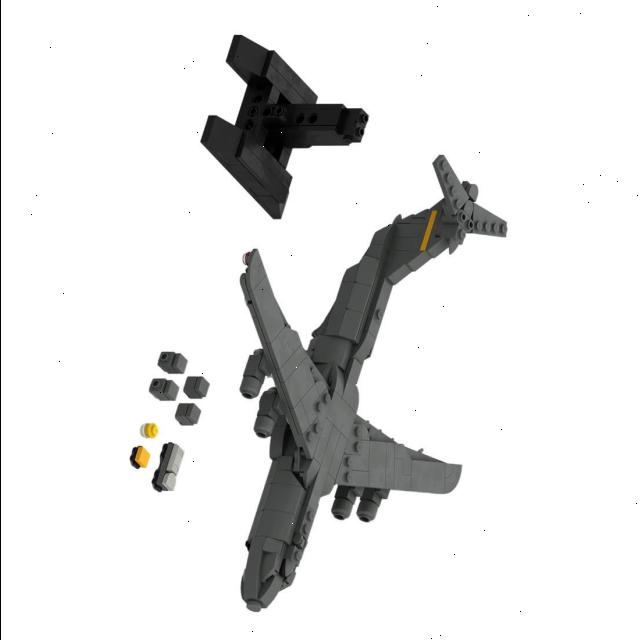C5: (185, 146, 524, 624)
